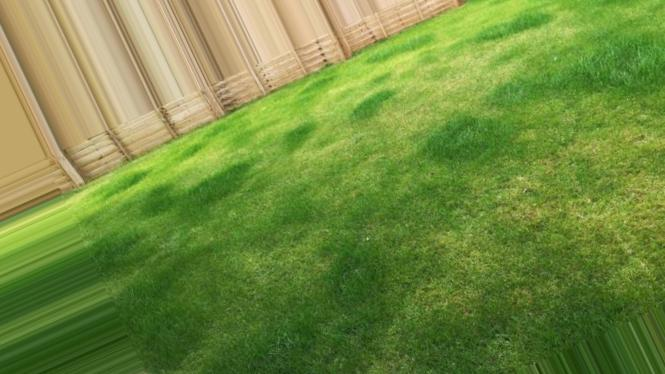patch: (399, 55, 468, 93), (319, 96, 346, 117), (478, 68, 504, 85)
